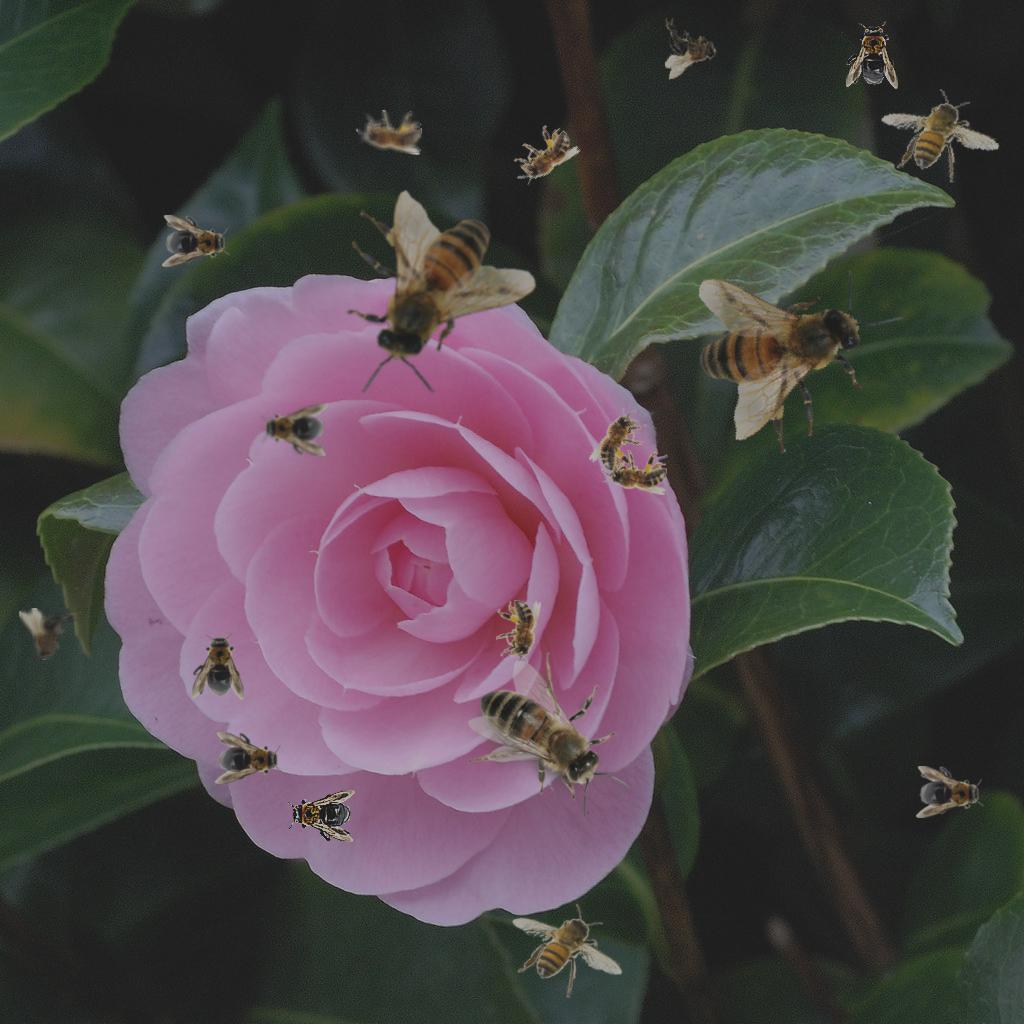Bee: (295, 156, 562, 420), (655, 223, 914, 479), (468, 652, 630, 819), (877, 79, 1006, 195), (512, 904, 623, 998), (503, 117, 583, 196), (587, 400, 655, 479), (661, 14, 720, 80), (162, 215, 230, 267), (287, 790, 355, 842), (260, 404, 328, 456), (215, 732, 283, 784), (192, 632, 244, 700), (916, 766, 984, 818), (846, 21, 898, 89), (19, 608, 81, 661), (496, 600, 541, 666), (356, 110, 422, 155), (601, 450, 667, 495)
